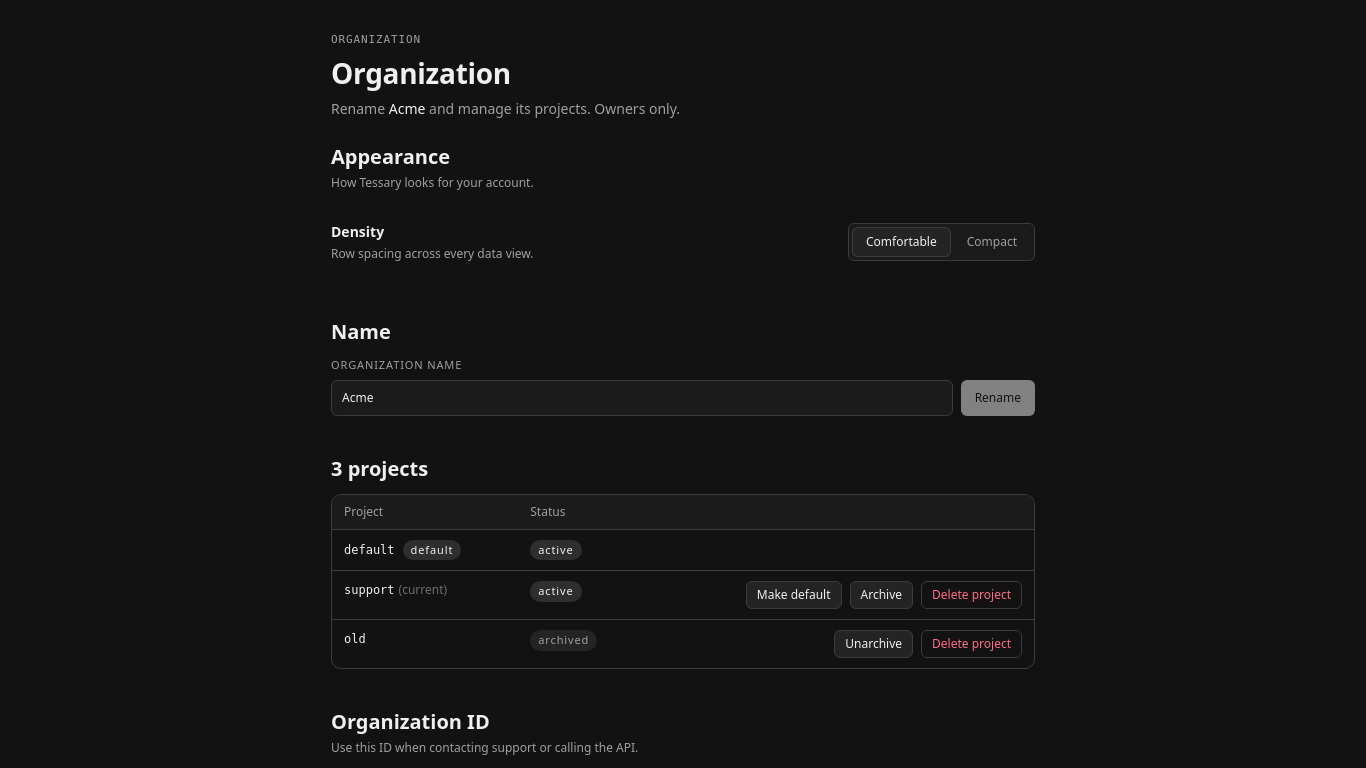
project lifecycle › makes, archives, and unarchives the project whose row was used
Click the button "Make default". click: [794, 595]
box: top-left (746, 581), bottom-right (842, 609)
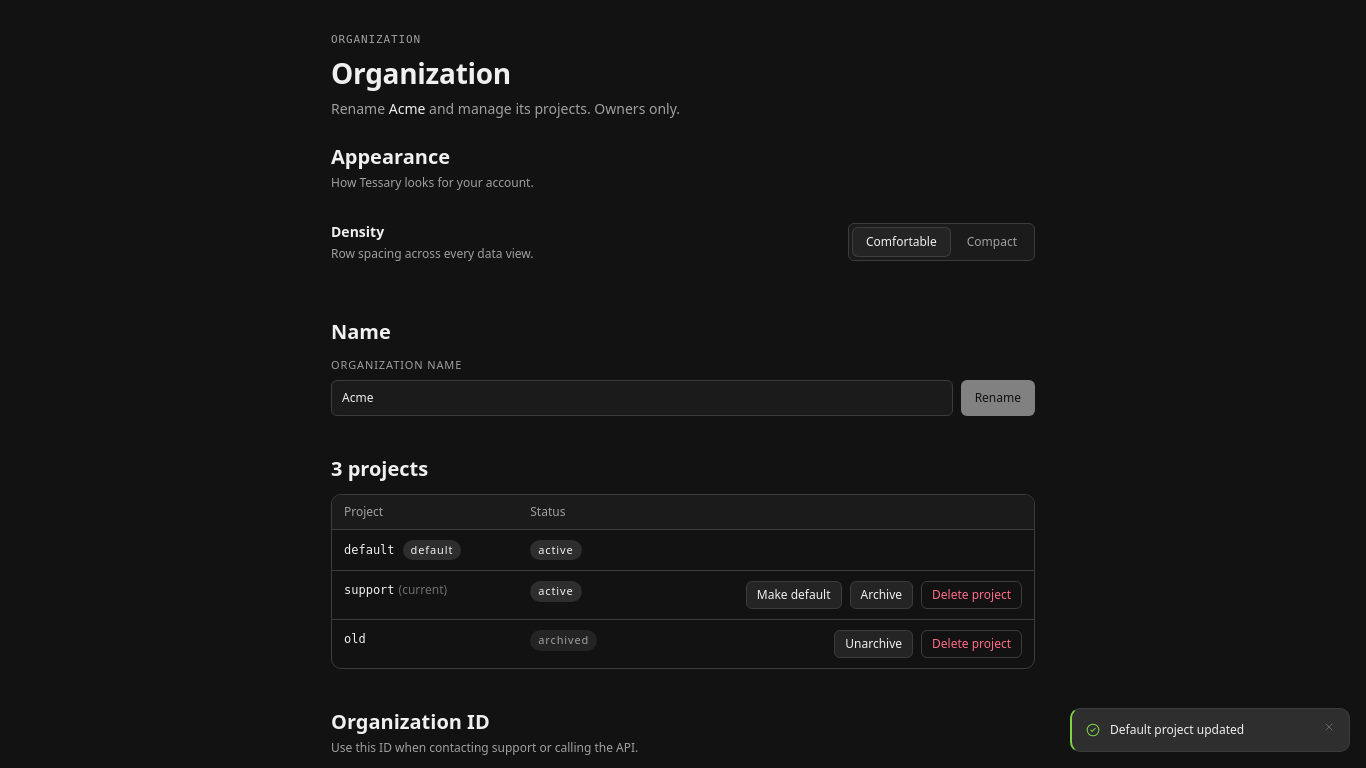
Now the text "Default project updated" is shown, box top-left (1110, 721), bottom-right (1244, 738)
Click the button "Archive". click: [881, 595]
box: top-left (850, 581), bottom-right (913, 609)
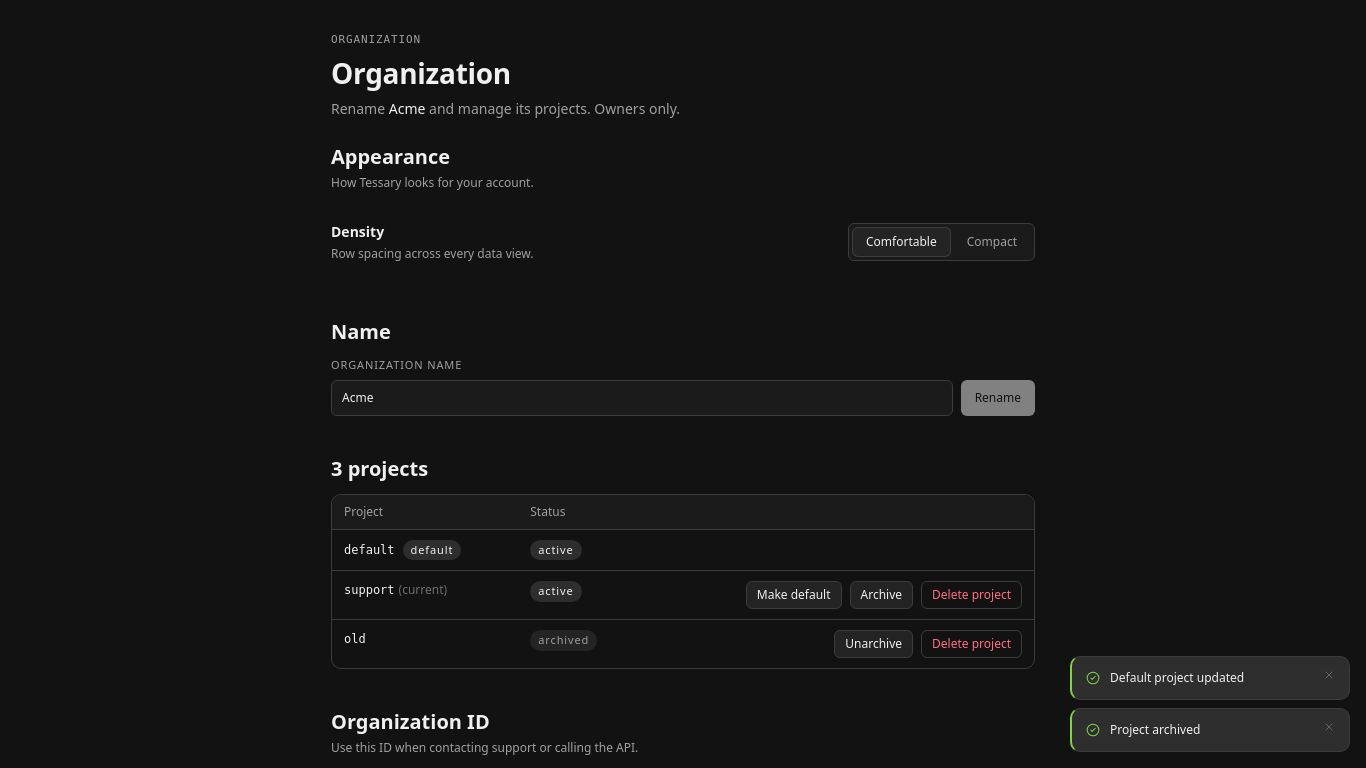
Now the text "Project archived" is shown, box top-left (1110, 721), bottom-right (1200, 738)
Click the button "Unarchive". click: [874, 644]
box: top-left (834, 630), bottom-right (913, 658)
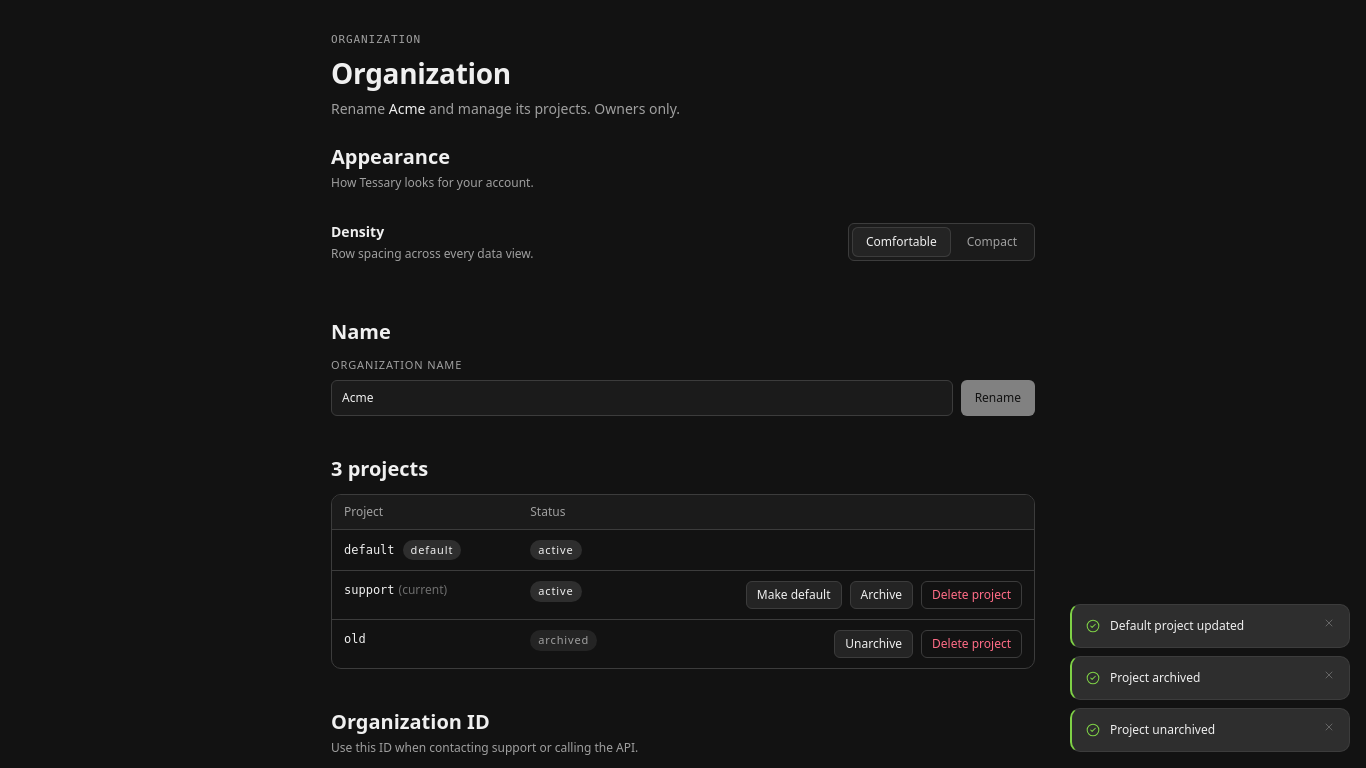
Now the text "Project unarchived" is shown, box top-left (1110, 721), bottom-right (1215, 738)
